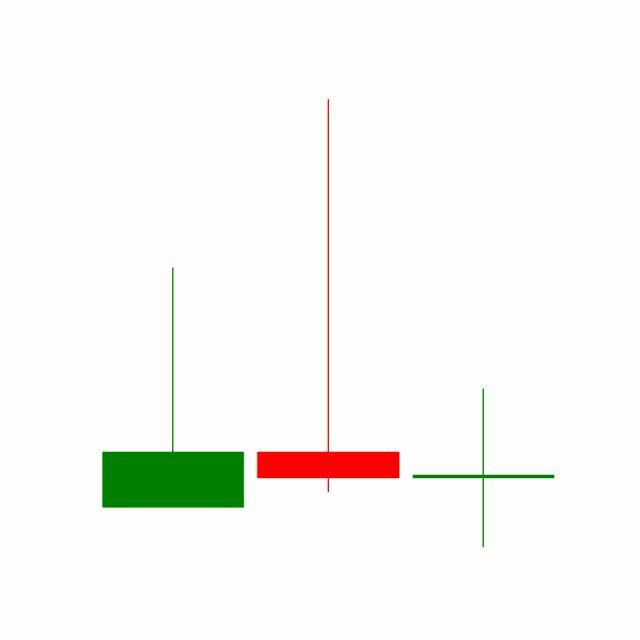Spinning Top: (406, 388, 562, 550)
